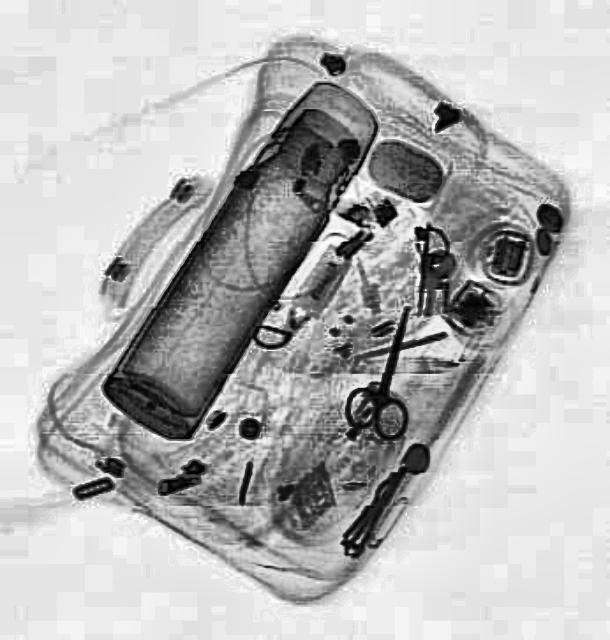Scissors: (336, 294, 436, 442)
